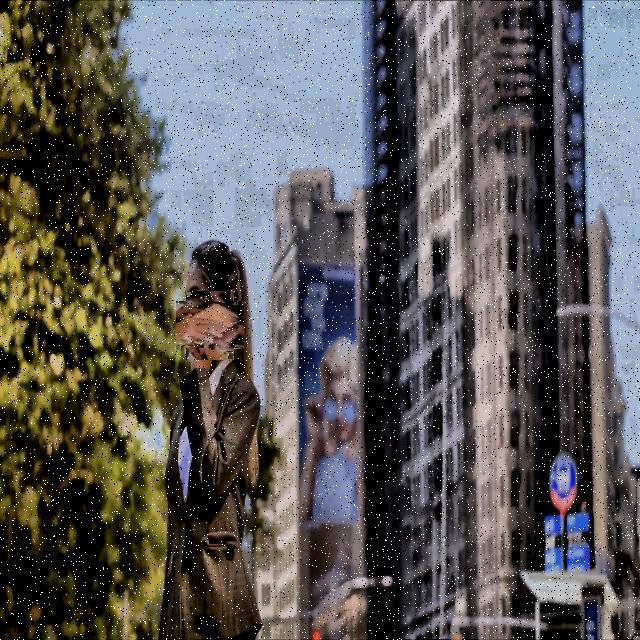Phone: (178, 294, 242, 357)
